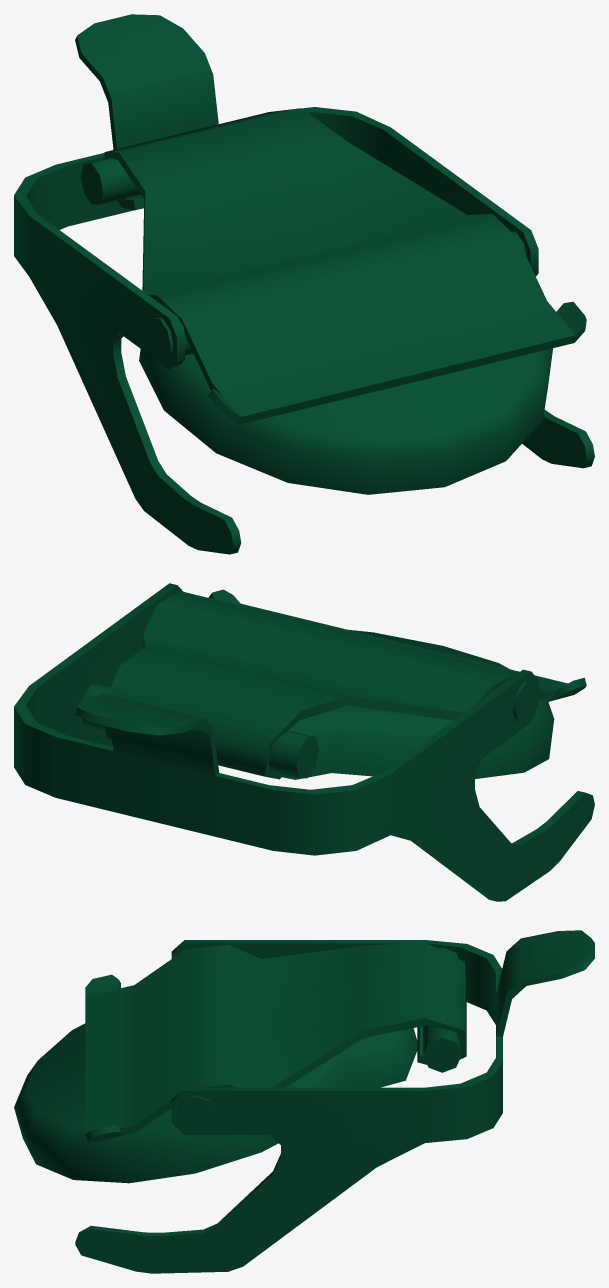
Rendered from CasolineCap.fbx.
The picture shows the model from 3 angles, top to bottom: view 1: azimuth 30°, elevation 25°; view 2: azimuth 150°, elevation 25°; view 3: azimuth 270°, elevation 25°; orthographic projection. The views are drawn at different scales.
Parts seen in each view (by area): view 1: Cylinder.003; view 2: Cylinder.003; view 3: Cylinder.003.
Part boxes in pixels (left/top/right/bottom): Cylinder.003: left=14, top=14, right=594, bottom=554; Cylinder.003: left=14, top=583, right=594, bottom=901; Cylinder.003: left=14, top=930, right=594, bottom=1273.
Size of the model in its own units: 36.46 by 27.94 by 58.27.
